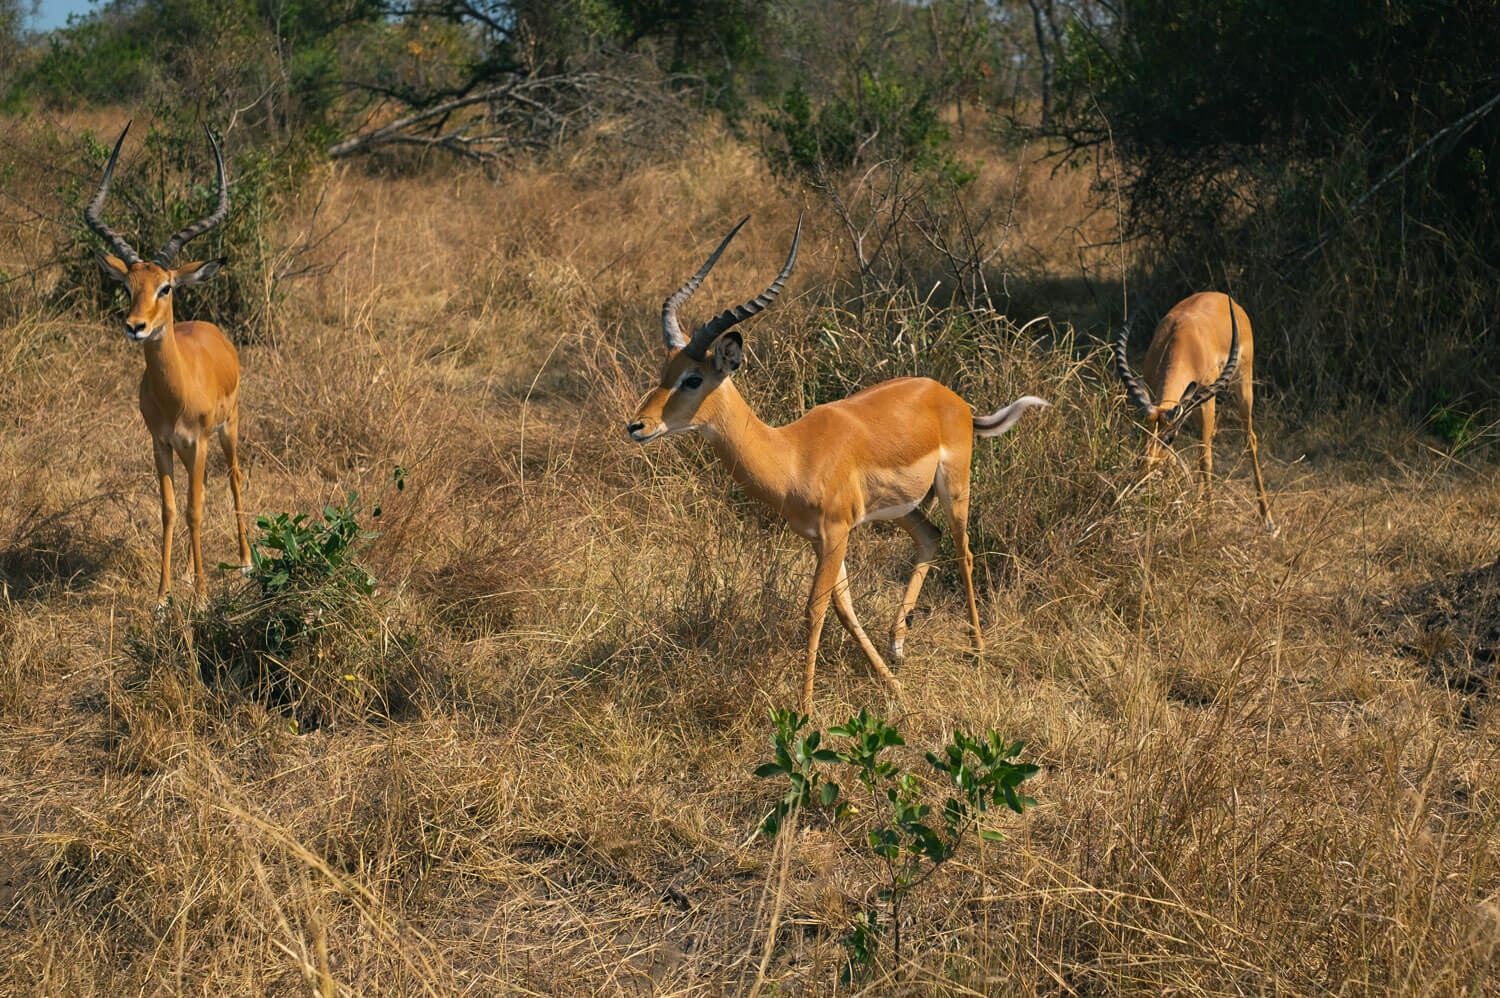impala: (622, 211, 1041, 705), (72, 105, 266, 622), (1102, 266, 1288, 544)
